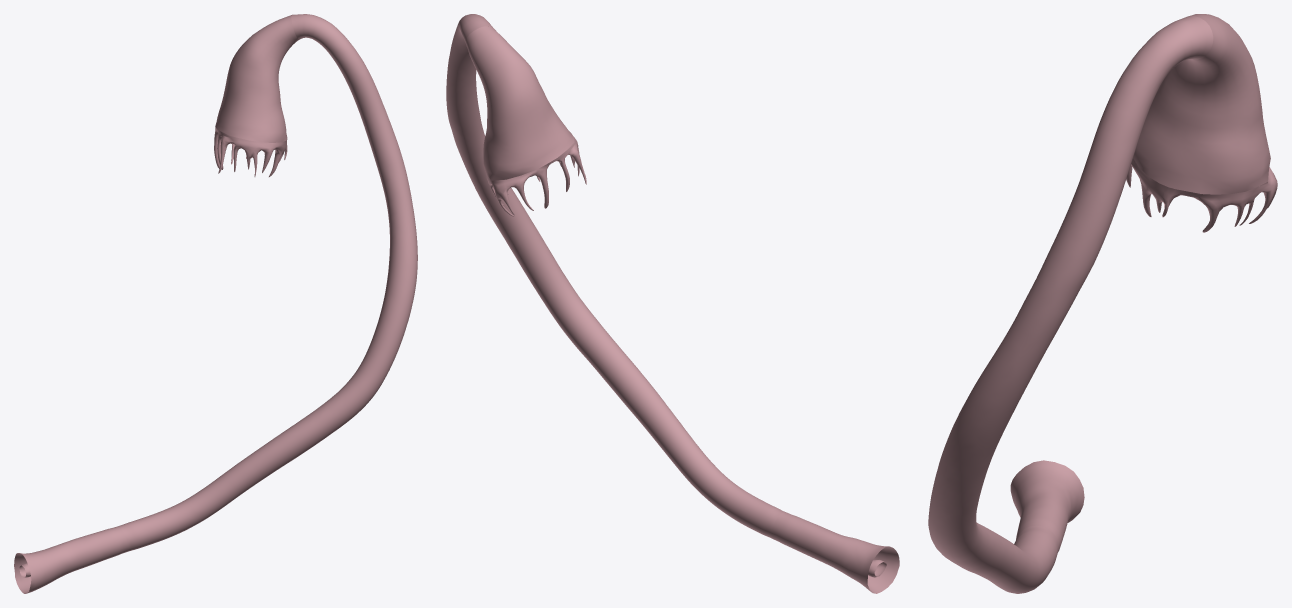
Rendered from 3DPX-020964.glb.
3 renders of one model, left to right at view 1: azimuth 30°, elevation 25°; view 2: azimuth 150°, elevation 25°; view 3: azimuth 270°, elevation 25°, orthographic. The views are drawn at different scales.
Visible parts, largest first — view 1: VH_F_ampulla_of_uterine_tube_L, VH_F_uterine_tube_infundibulum_L, VH_F_isthmus_of_fallopian_tube_L, VH_F_fibria_of_uterine_tube_L; view 2: VH_F_ampulla_of_uterine_tube_L, VH_F_uterine_tube_infundibulum_L, VH_F_isthmus_of_fallopian_tube_L, VH_F_fibria_of_uterine_tube_L; view 3: VH_F_ampulla_of_uterine_tube_L, VH_F_uterine_tube_infundibulum_L, VH_F_isthmus_of_fallopian_tube_L, VH_F_fibria_of_uterine_tube_L.
Boxes of the visible parts, box(x1,y1,x2,y2) form: VH_F_ampulla_of_uterine_tube_L: box(118, 14, 417, 551); VH_F_uterine_tube_infundibulum_L: box(215, 15, 299, 142); VH_F_isthmus_of_fallopian_tube_L: box(14, 526, 127, 593); VH_F_fibria_of_uterine_tube_L: box(214, 127, 287, 176); VH_F_ampulla_of_uterine_tube_L: box(446, 14, 785, 539); VH_F_uterine_tube_infundibulum_L: box(465, 26, 574, 180); VH_F_isthmus_of_fallopian_tube_L: box(771, 512, 899, 593); VH_F_fibria_of_uterine_tube_L: box(486, 137, 586, 216); VH_F_ampulla_of_uterine_tube_L: box(928, 16, 1213, 593); VH_F_uterine_tube_infundibulum_L: box(1133, 14, 1270, 194); VH_F_isthmus_of_fallopian_tube_L: box(1010, 460, 1084, 551); VH_F_fibria_of_uterine_tube_L: box(1126, 158, 1277, 232).
Bounding box in the file's own units: 0.3862 × 0.4447 × 0.1855.
